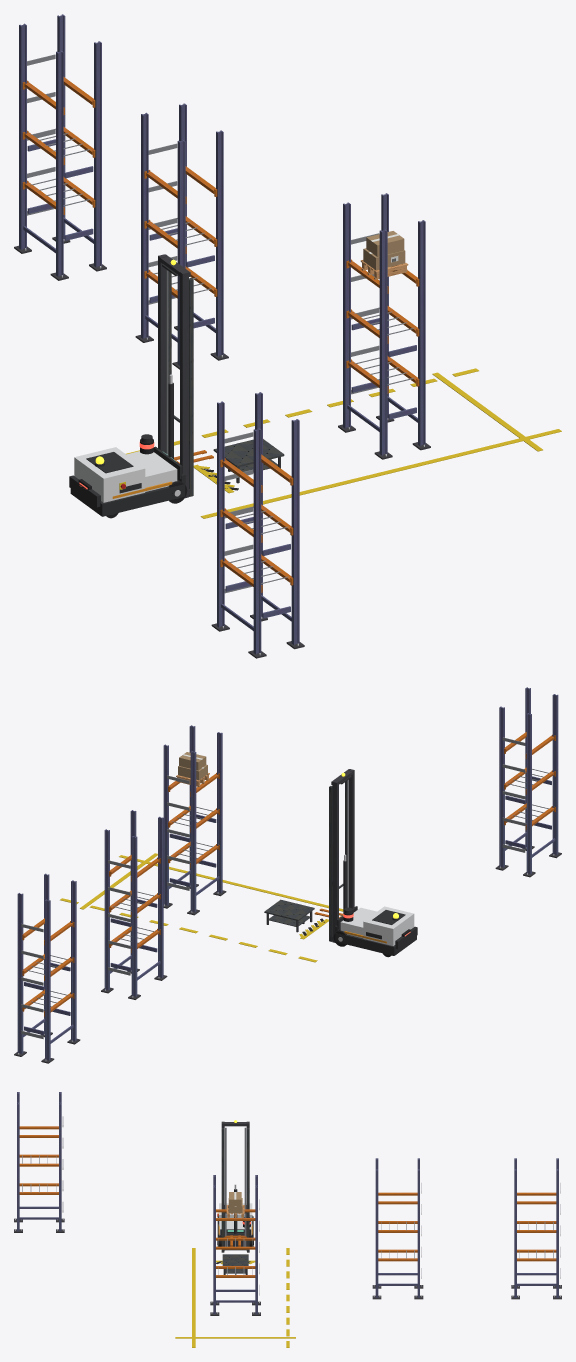
Rendered from agv_twin.glb.
3 renders of one model, top to bottom at view 1: azimuth 30°, elevation 25°; view 2: azimuth 150°, elevation 25°; view 3: azimuth 270°, elevation 25°, orthographic. The views are drawn at different scales.
Visible parts, largest first — view 1: shell_rear, mast_outer_-0.048, mast_outer_0.048, line_lane, base, upr_main_-1_-1_f-0.005, mast_inner_-0.048, upr_bg3_1_-1_f-0.005, shell_front, upr_main_1_-1_web, upr_bg1_1_-1_web, stage_top (+13 smaller); view 2: shell_rear, mast_outer_0.048, mast_outer_-0.048, base, stage_top, mast_inner_0.048, upr_bg2_1_1_f-0.005, line_lane, upr_bg3_1_1_web, upr_bg2_-1_-1_web, shell_front, upr_main_-1_-1_f-0.005 (+11 smaller); view 3: upr_bg1_1_-1_f0.005, mast_inner_-0.048, line_lane, upr_bg1_1_1_f0.005, upr_bg2_1_1_f0.005, upr_bg2_1_-1_f0.005, upr_bg3_1_1_f0.005, upr_bg3_1_-1_f0.005, upr_main_1_1_f0.005, upr_main_1_-1_f0.005, mast_inner_0.048.
Boxes of the visible parts, x1,y1,x2,y2 form: shell_rear: [74, 447, 145, 502]; mast_outer_-0.048: [180, 270, 188, 498]; mast_outer_0.048: [158, 254, 166, 453]; line_lane: [200, 429, 561, 518]; base: [70, 483, 184, 516]; upr_main_-1_-1_f-0.005: [379, 230, 383, 455]; mast_inner_-0.048: [189, 278, 193, 496]; upr_bg3_1_-1_f-0.005: [291, 420, 295, 645]; shell_front: [126, 451, 177, 491]; upr_main_1_-1_web: [418, 221, 423, 445]; upr_bg1_1_-1_web: [216, 131, 222, 355]; stage_top: [213, 439, 284, 467]; shell_rear: [363, 906, 414, 945]; mast_outer_0.048: [332, 780, 338, 942]; mast_outer_-0.048: [348, 769, 354, 908]; base: [335, 932, 416, 955]; stage_top: [264, 899, 314, 920]; mast_inner_0.048: [329, 786, 332, 941]; upr_bg2_1_1_f-0.005: [20, 893, 23, 1053]; line_lane: [119, 855, 343, 911]; upr_bg3_1_1_web: [500, 707, 504, 866]; upr_bg2_-1_-1_web: [72, 881, 76, 1040]; shell_front: [340, 907, 376, 938]; upr_main_-1_-1_f-0.005: [220, 732, 222, 893]; upr_bg1_1_-1_f0.005: [375, 1170, 378, 1297]; mast_inner_-0.048: [221, 1128, 224, 1252]; line_lane: [192, 1248, 195, 1347]; upr_bg1_1_1_f0.005: [417, 1170, 419, 1297]; upr_bg2_1_1_f0.005: [556, 1170, 558, 1297]; upr_bg2_1_-1_f0.005: [514, 1170, 516, 1297]; upr_bg3_1_1_f0.005: [59, 1104, 61, 1231]; upr_bg3_1_-1_f0.005: [17, 1104, 19, 1231]; upr_main_1_1_f0.005: [255, 1187, 257, 1314]; upr_main_1_-1_f0.005: [213, 1187, 215, 1314]; mast_inner_0.048: [247, 1128, 249, 1252].
Size of what is drawn, in the model's own units: 1.16 by 0.55 by 2.09.
21 materials, 5 textured.
